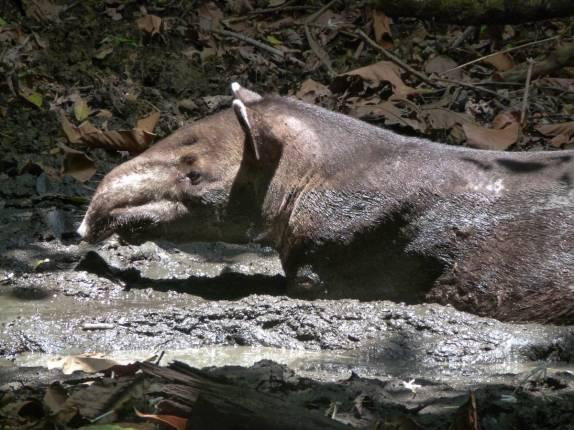Anta: (68, 79, 563, 317)
